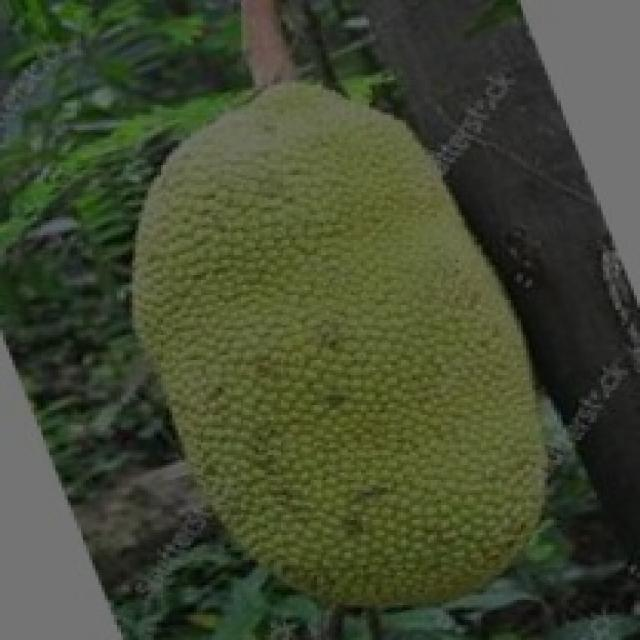Fruit: (268, 250, 606, 640)
